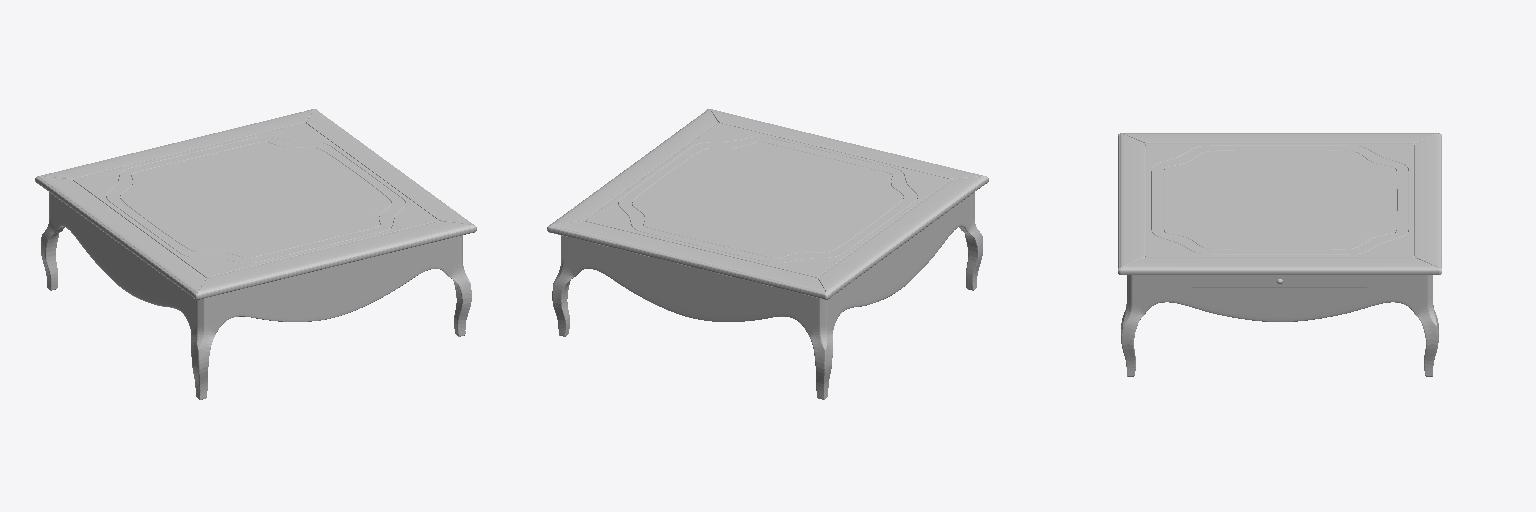
3 views of the same model, side by side, from view 1: azimuth 30°, elevation 25°; view 2: azimuth 150°, elevation 25°; view 3: azimuth 270°, elevation 25° (orthographic).
Parts seen in each view (by area): view 1: Coffee_table_Richelieu_Giorno; view 2: Coffee_table_Richelieu_Giorno; view 3: Coffee_table_Richelieu_Giorno.
Boxes of the visible parts, <box> form: Coffee_table_Richelieu_Giorno: <box>35,109,476,399</box>; Coffee_table_Richelieu_Giorno: <box>547,109,988,399</box>; Coffee_table_Richelieu_Giorno: <box>1118,133,1441,376</box>.
Bounding box in the file's own units: 5.09 × 1.93 × 5.08.